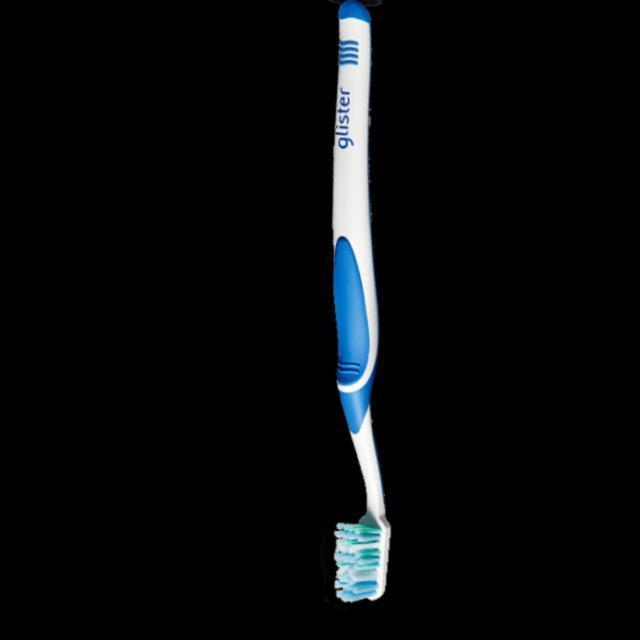toothbrush: (230, 0, 462, 612)
